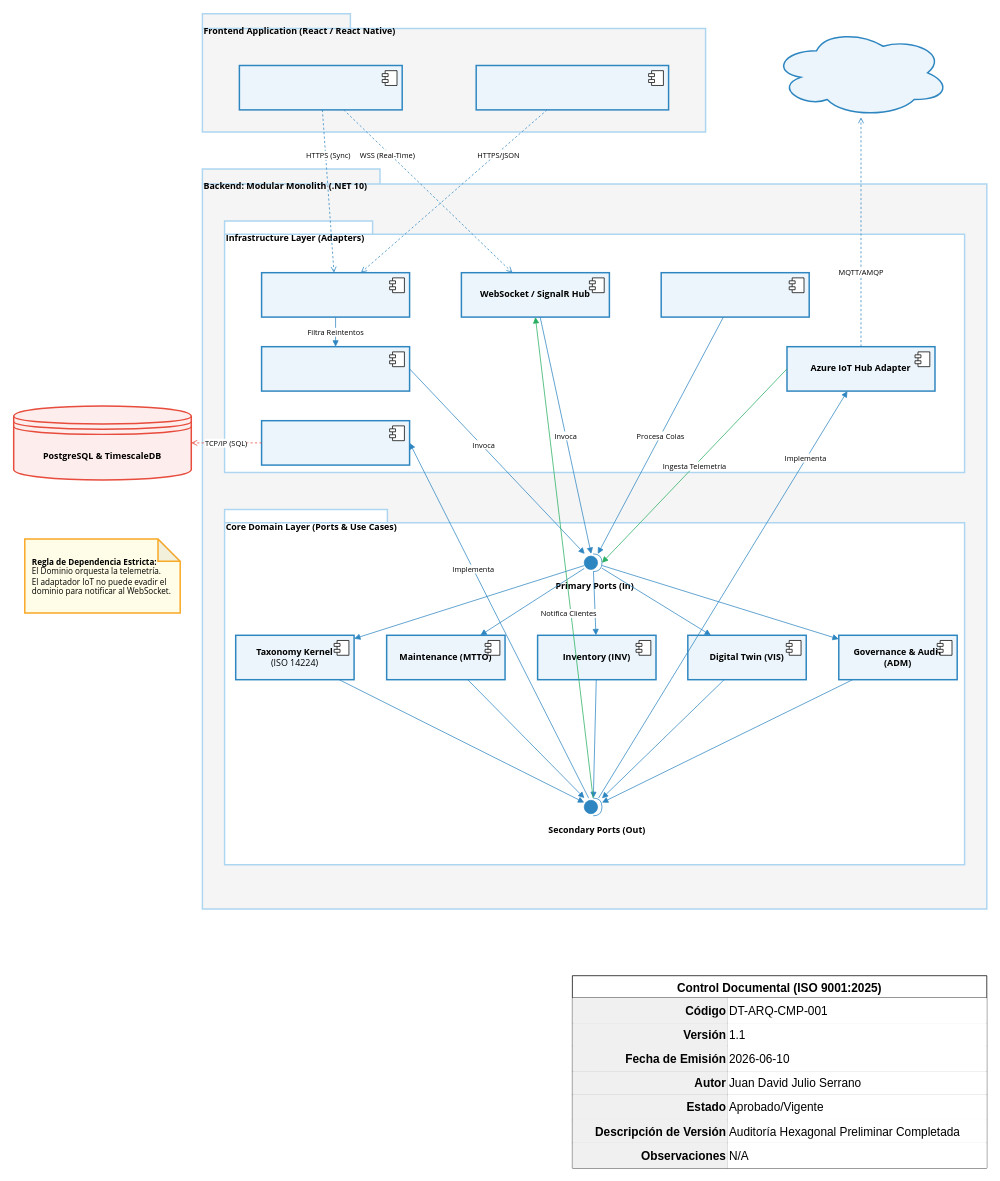
The diagram is 1000 pixels wide and 1181 high, and some of its shapes have lost their labels. Each missing label, with the centre of its shape:
"Azure IoT Hub" belongs at pixel 860 72.
"Background Sync Worker" belongs at pixel 735 294.
"EF Core Postgres Adapter" belongs at pixel 335 442.
"Idempotency Filter (Redis/Memory Cache)" belongs at pixel 335 294.
"Mobile App (Offline-First)" belongs at pixel 320 87.
"REST API Controllers (+ Optimistic Concurrency)" belongs at pixel 335 368.
"Web Admin Portal" belongs at pixel 572 87.
